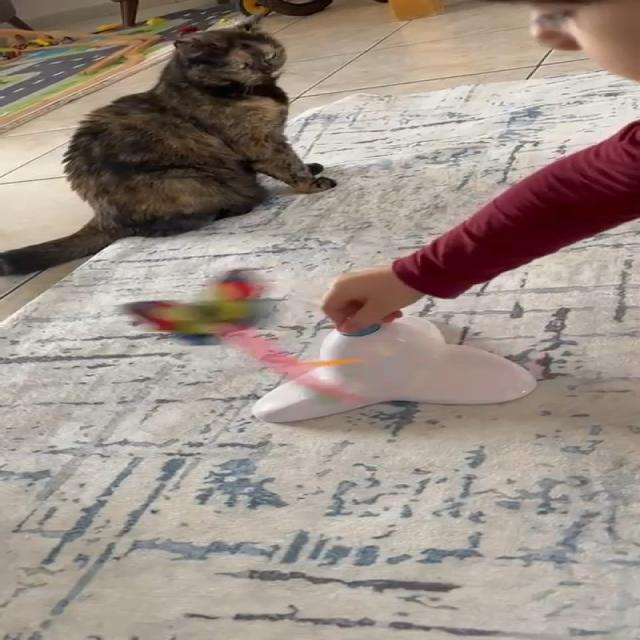authorized: (0, 11, 336, 277)
